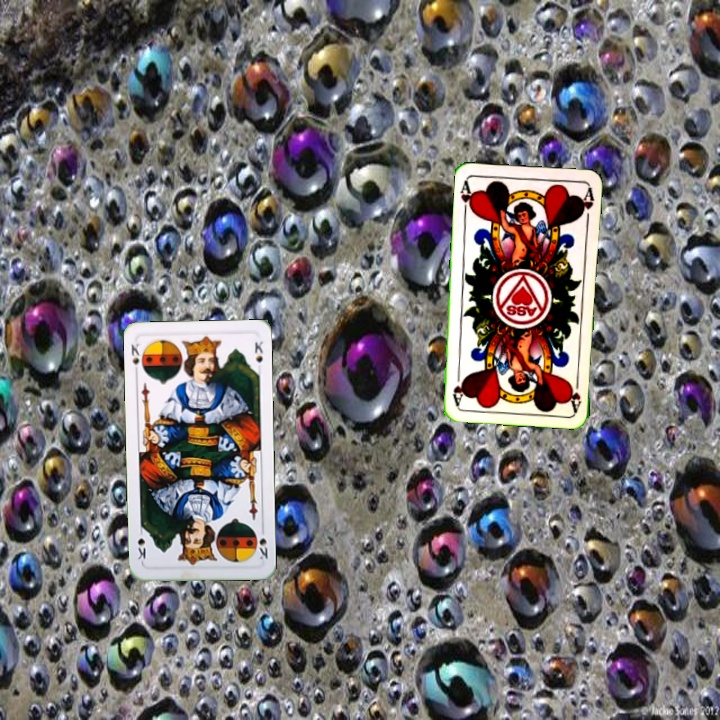HA: (456, 177, 476, 218), (565, 372, 584, 413)
SK: (127, 340, 147, 377), (254, 523, 270, 562)
